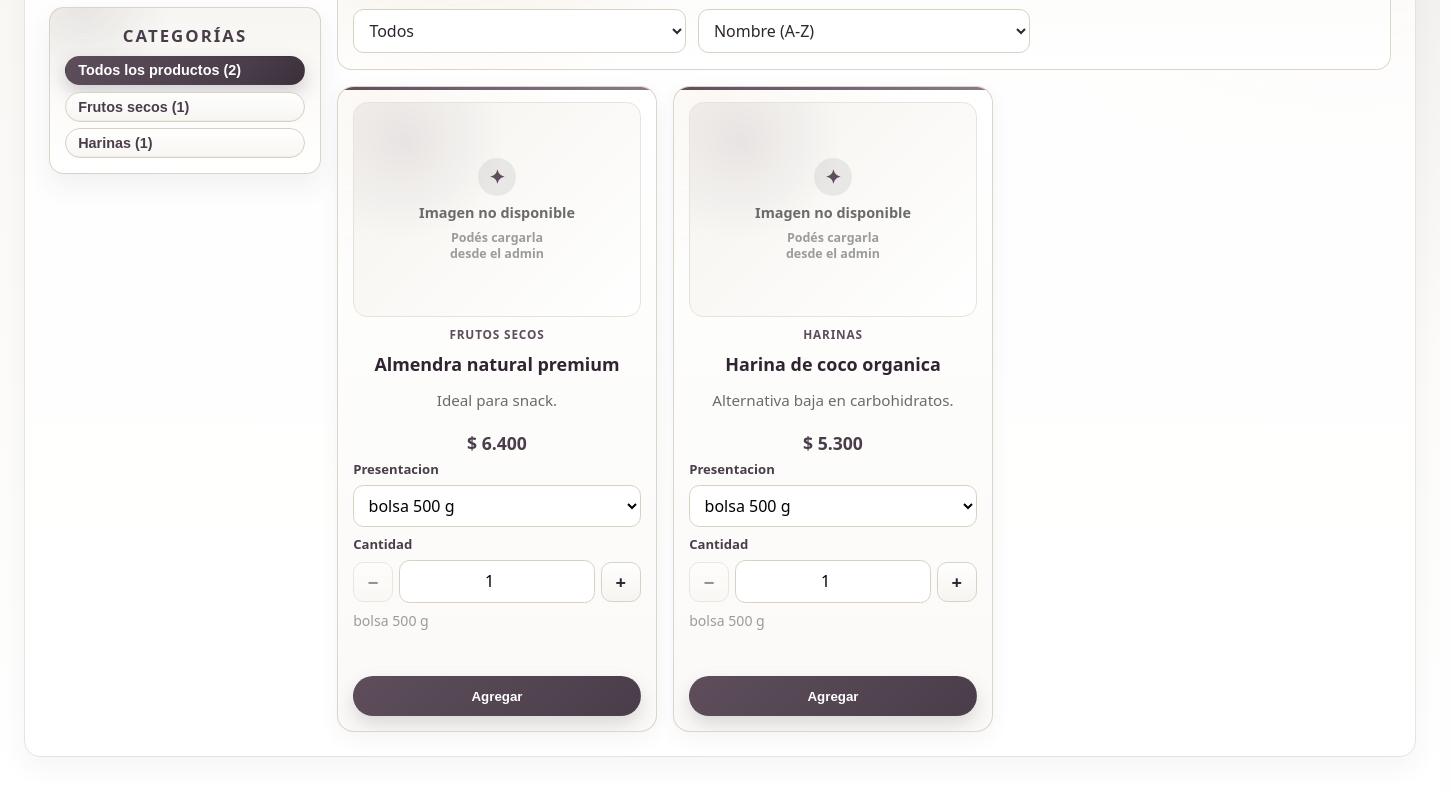
Test: App checkout MVP flow › navigates back to the catalog from the header logo and cart continue-shopping action
(page scrolled)
Expected: the heading "Almendra natural premium" is shown, top-left (353, 353), bottom-right (641, 377)
Expected: the element named "Almendra natural premium" is shown, top-left (337, 86), bottom-right (657, 732)
Click the button "Agregar" below "$ 6.400".
click(497, 696)  # box top-left (353, 676), bottom-right (641, 716)
(page scrolled)
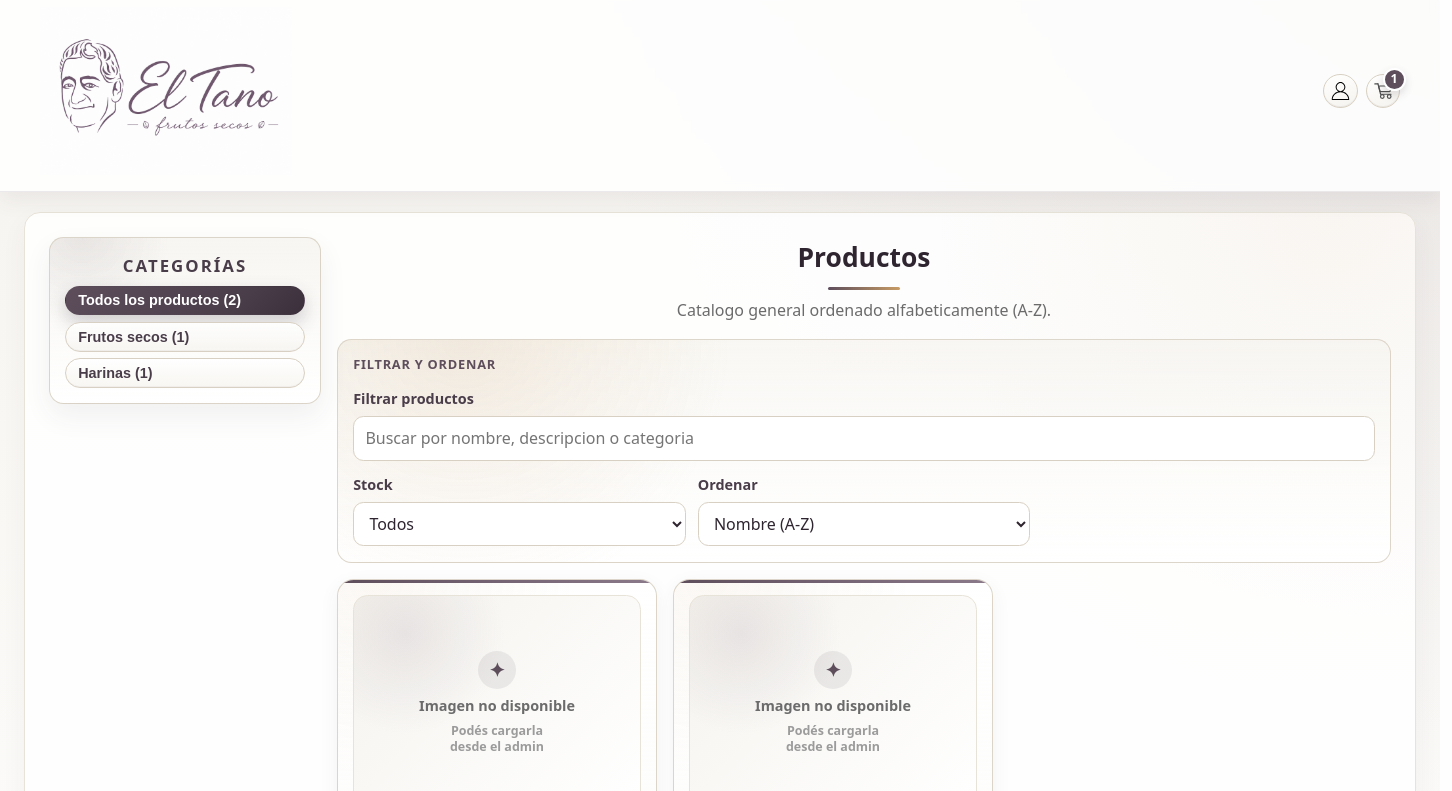
Click the link named "Ver carrito, 1 item".
click(1383, 91)  # box top-left (1366, 74), bottom-right (1400, 108)
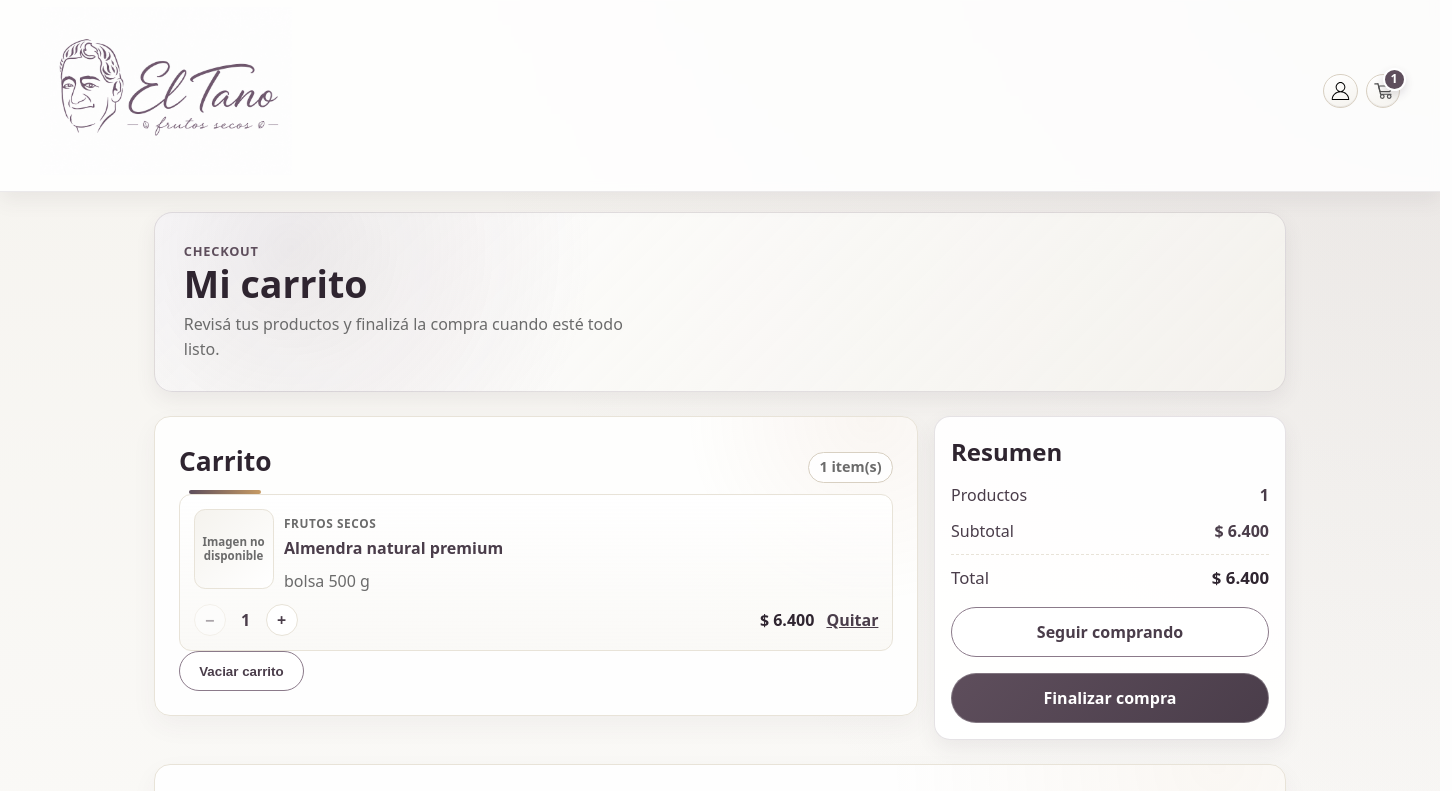
Click the link "Seguir comprando".
click(1110, 632)  # box top-left (951, 607), bottom-right (1269, 657)
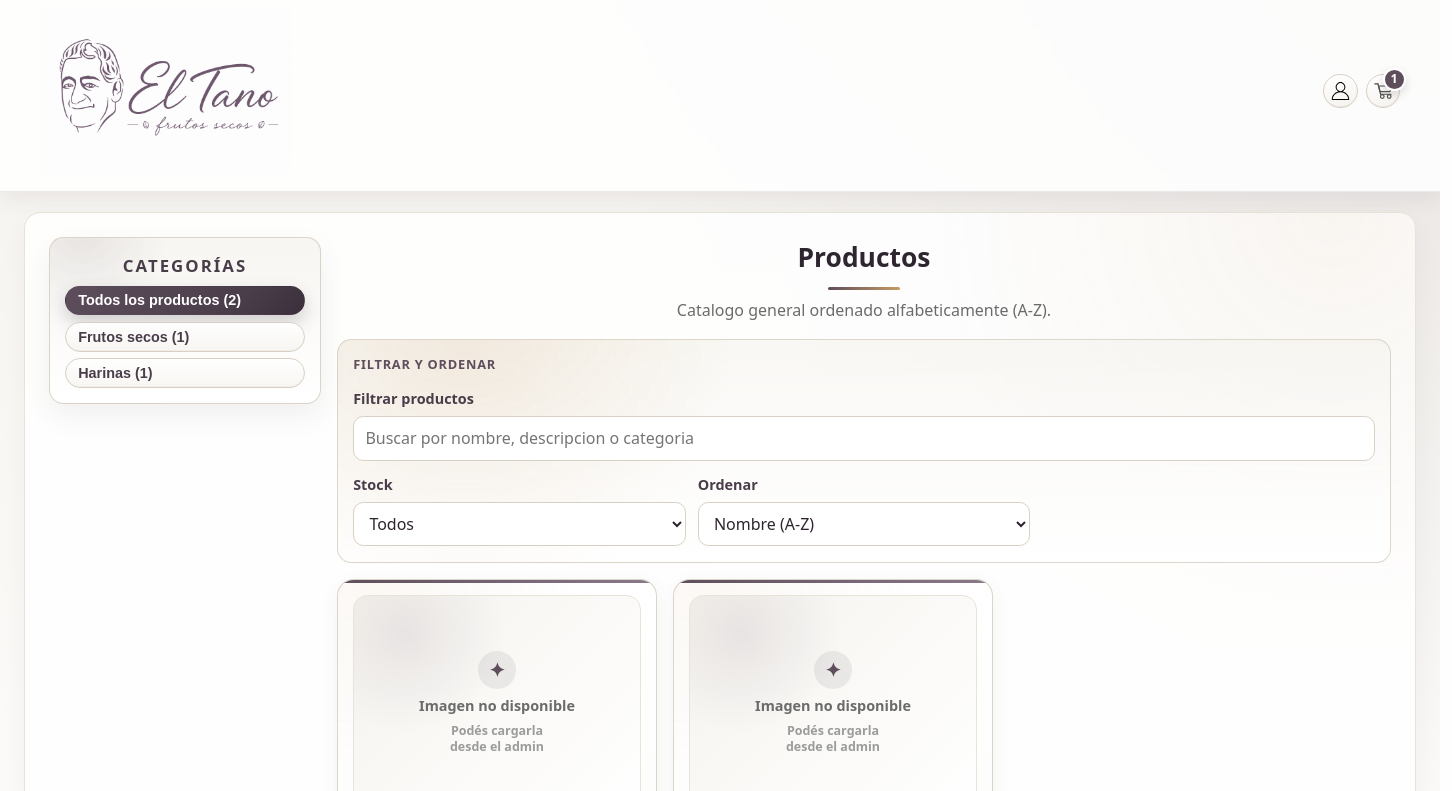
Click the link named "Ver carrito, 1 item".
click(1383, 91)  # box top-left (1366, 74), bottom-right (1400, 108)
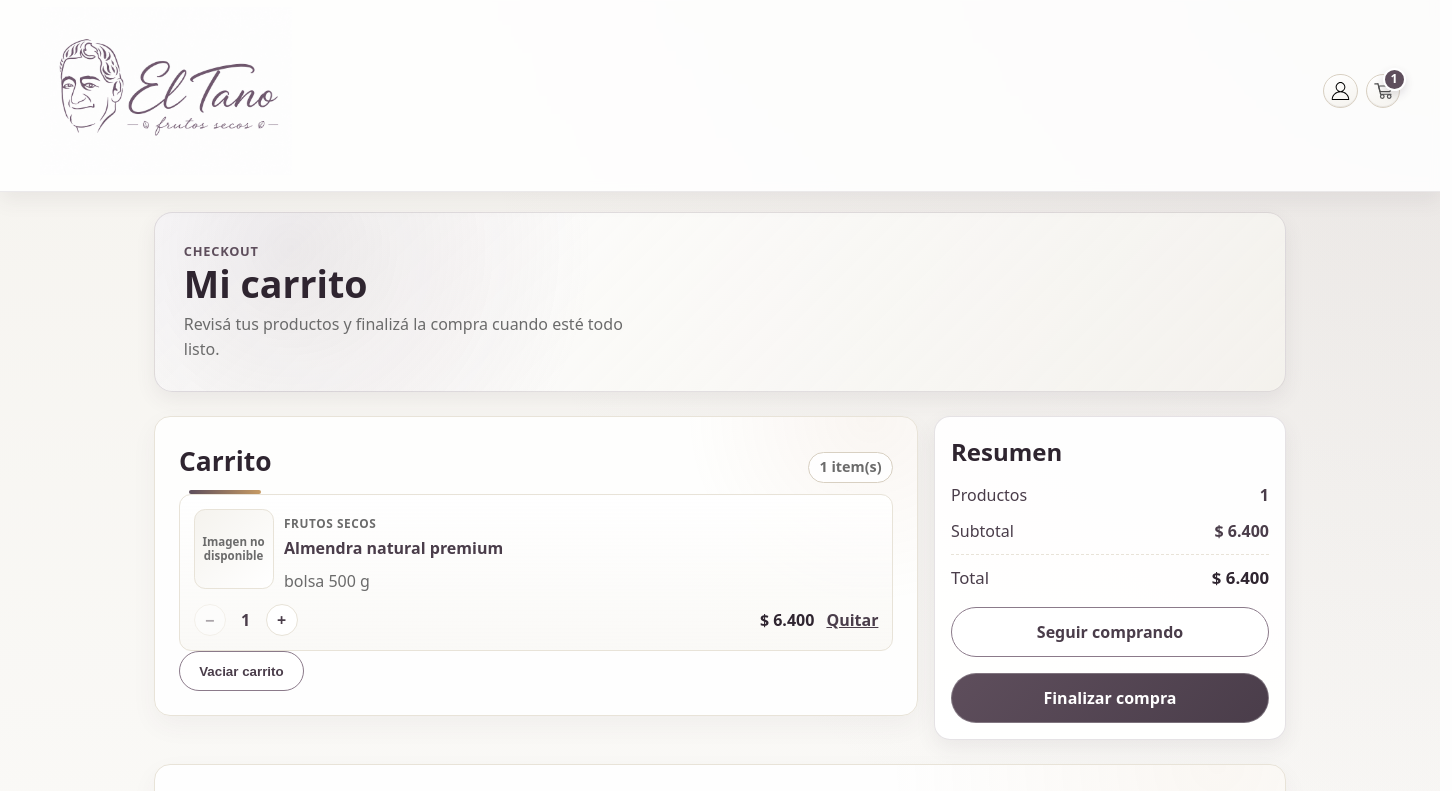
Expected: the heading "Mi carrito" is shown, top-left (184, 258), bottom-right (368, 309)
Click the link named "Ir al inicio".
click(166, 91)  # box top-left (40, 7), bottom-right (292, 175)
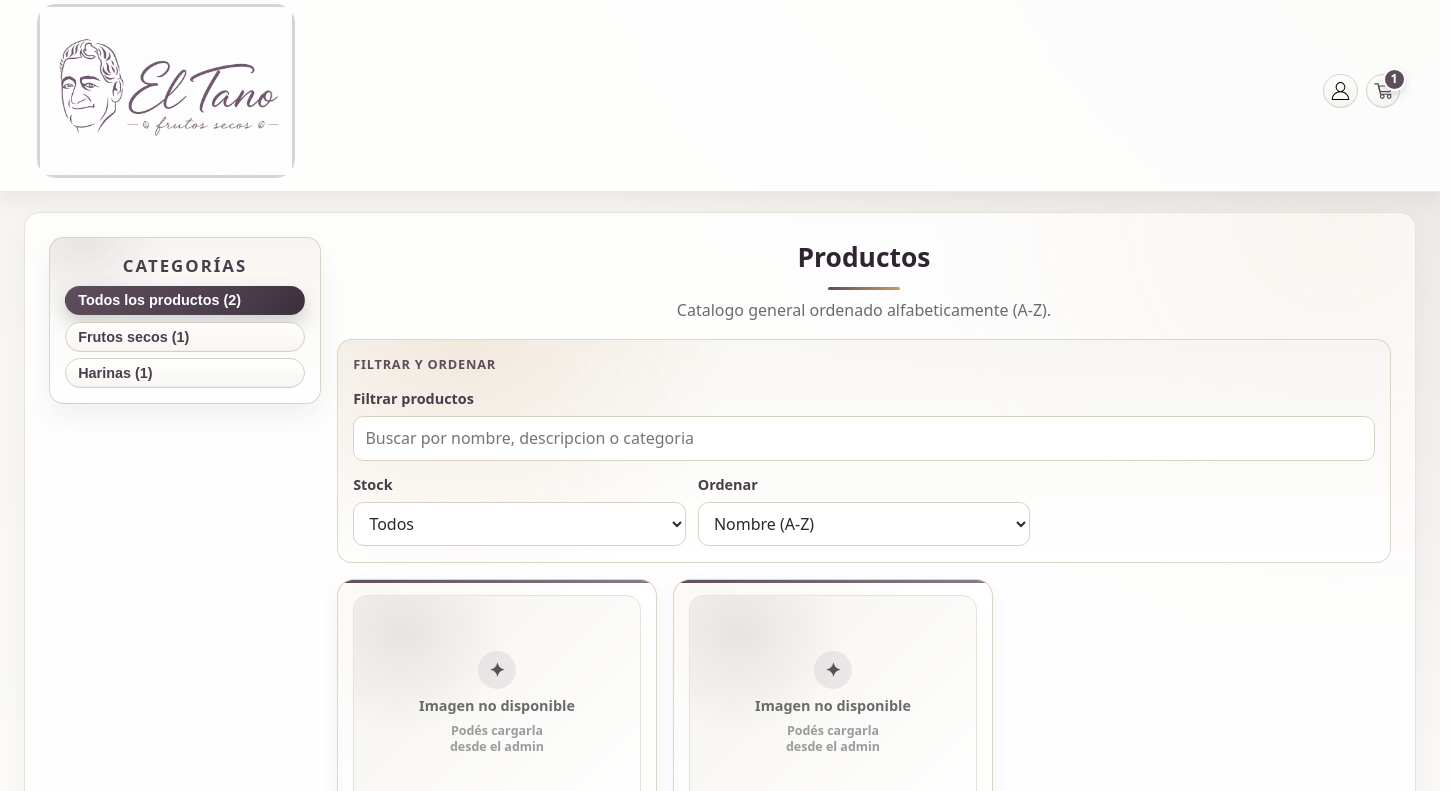
Expected: the heading "Productos" is shown, top-left (798, 239), bottom-right (930, 275)
